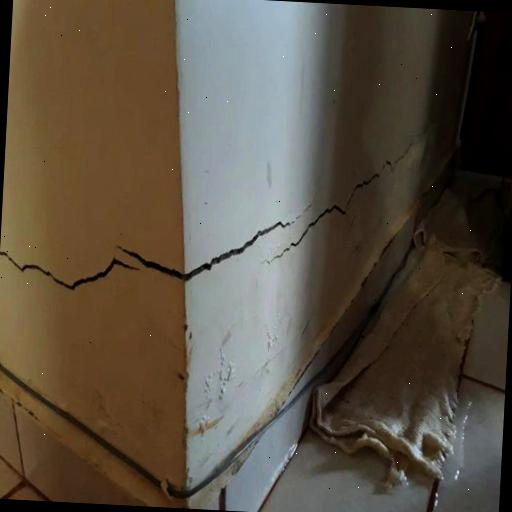spalling: (0, 211, 290, 301), (259, 154, 394, 268)
